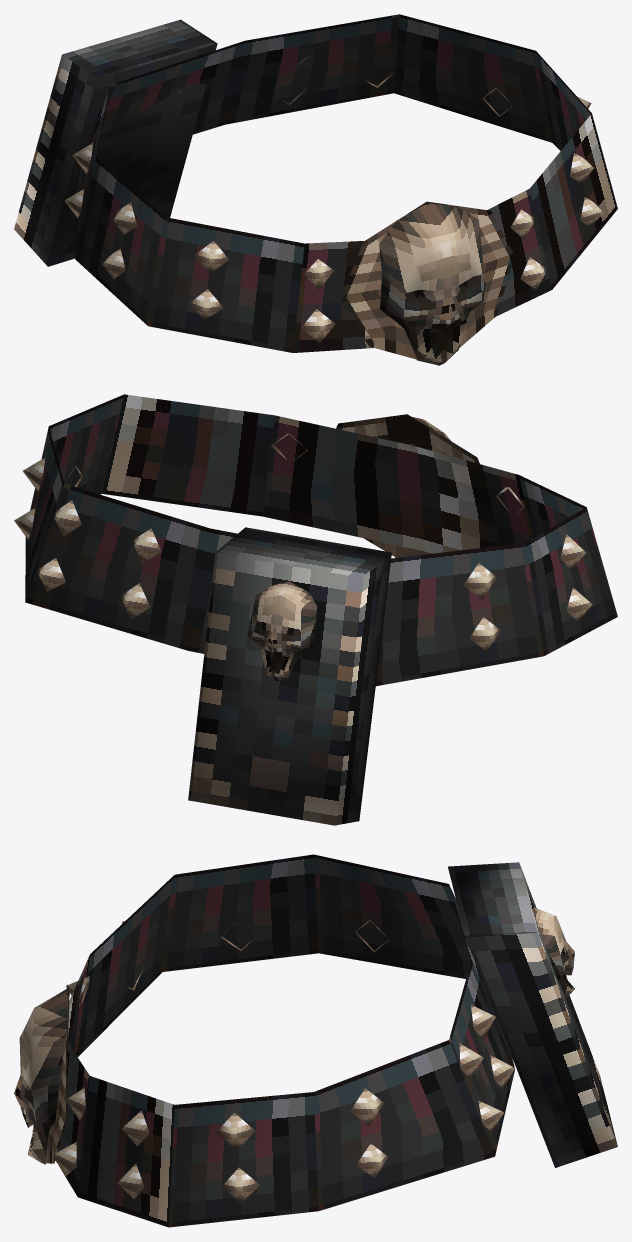
File: f_wst200.glb
3 views of the same model, one above another, from view 1: azimuth 30°, elevation 25°; view 2: azimuth 150°, elevation 25°; view 3: azimuth 270°, elevation 25° (orthographic). The views are drawn at different scales.
Bounding box in the file's own units: 36.68 × 15.38 × 35.01.
Materials: 1 (1 with a texture image).
